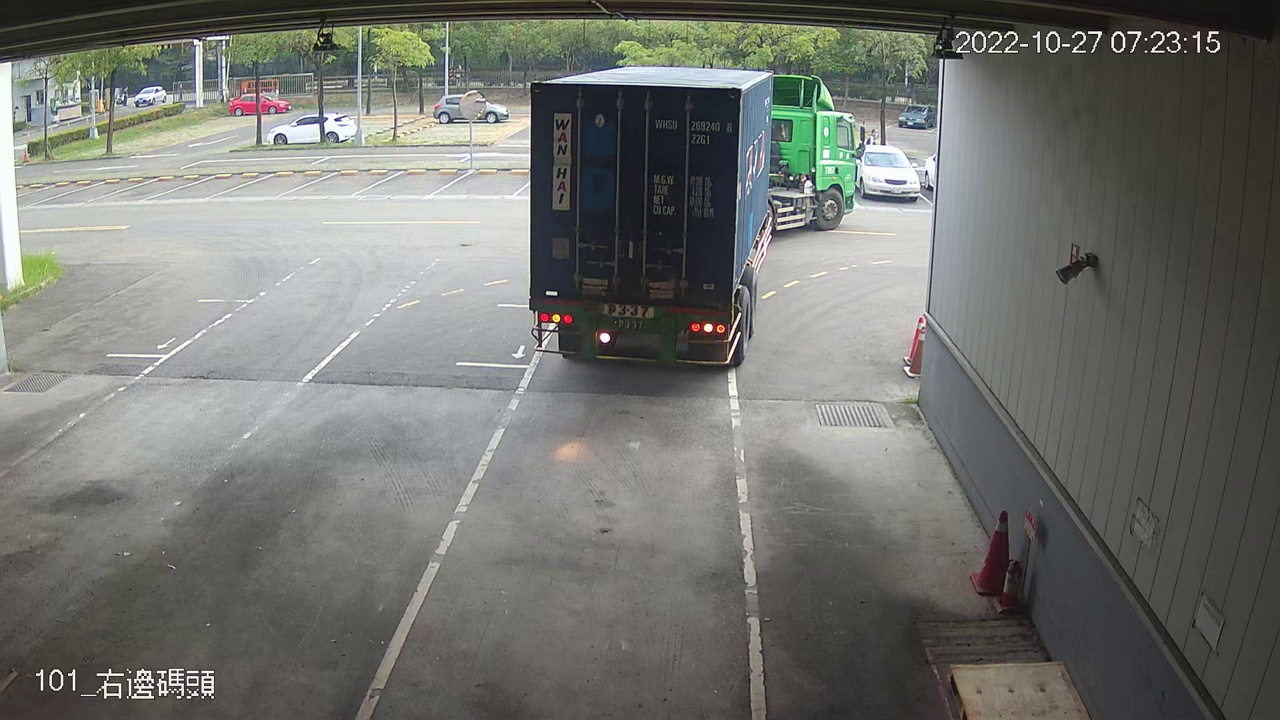container: (651, 112, 735, 150)
